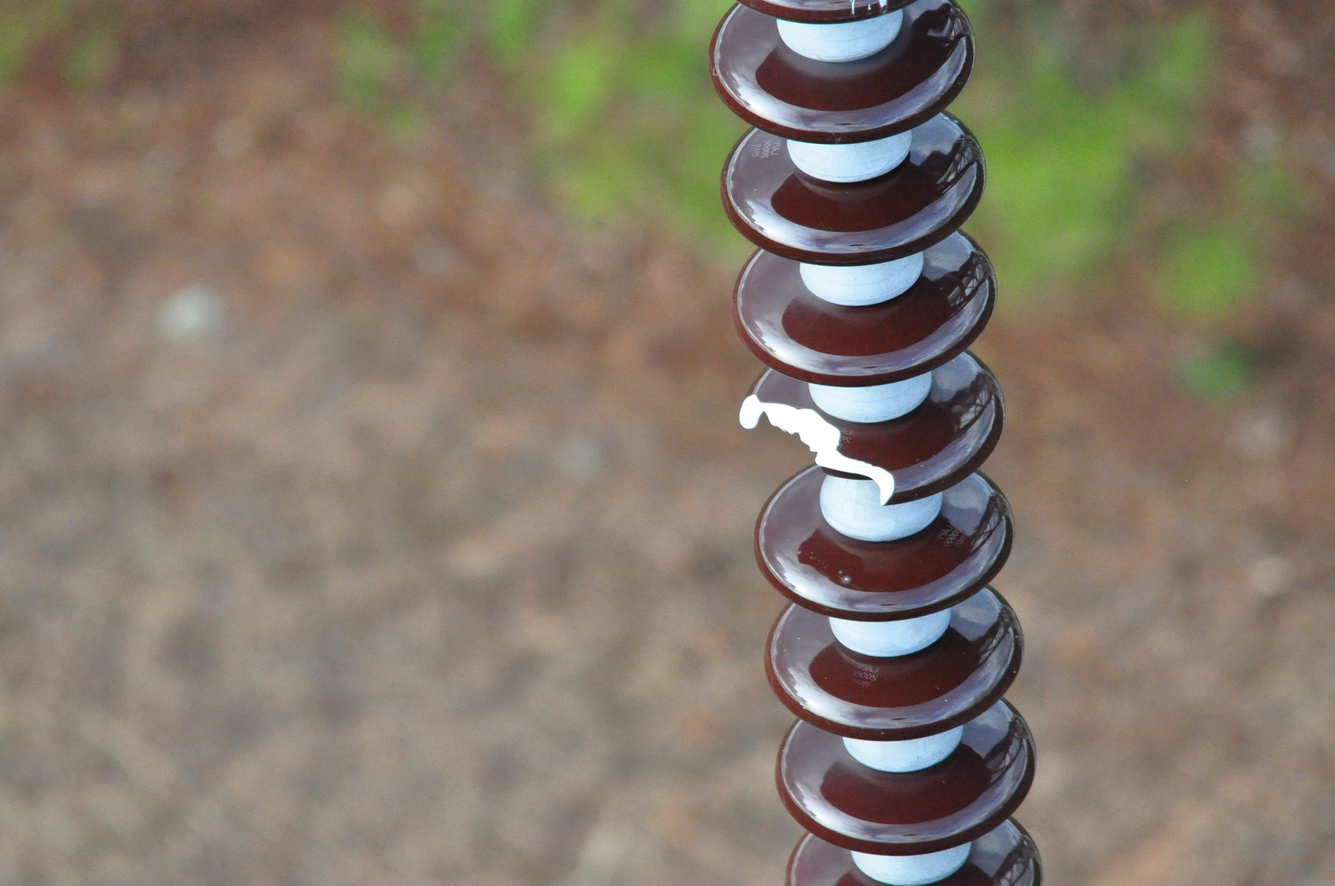damaged: (735, 380, 903, 507)
insulator: (706, 0, 1040, 886)
